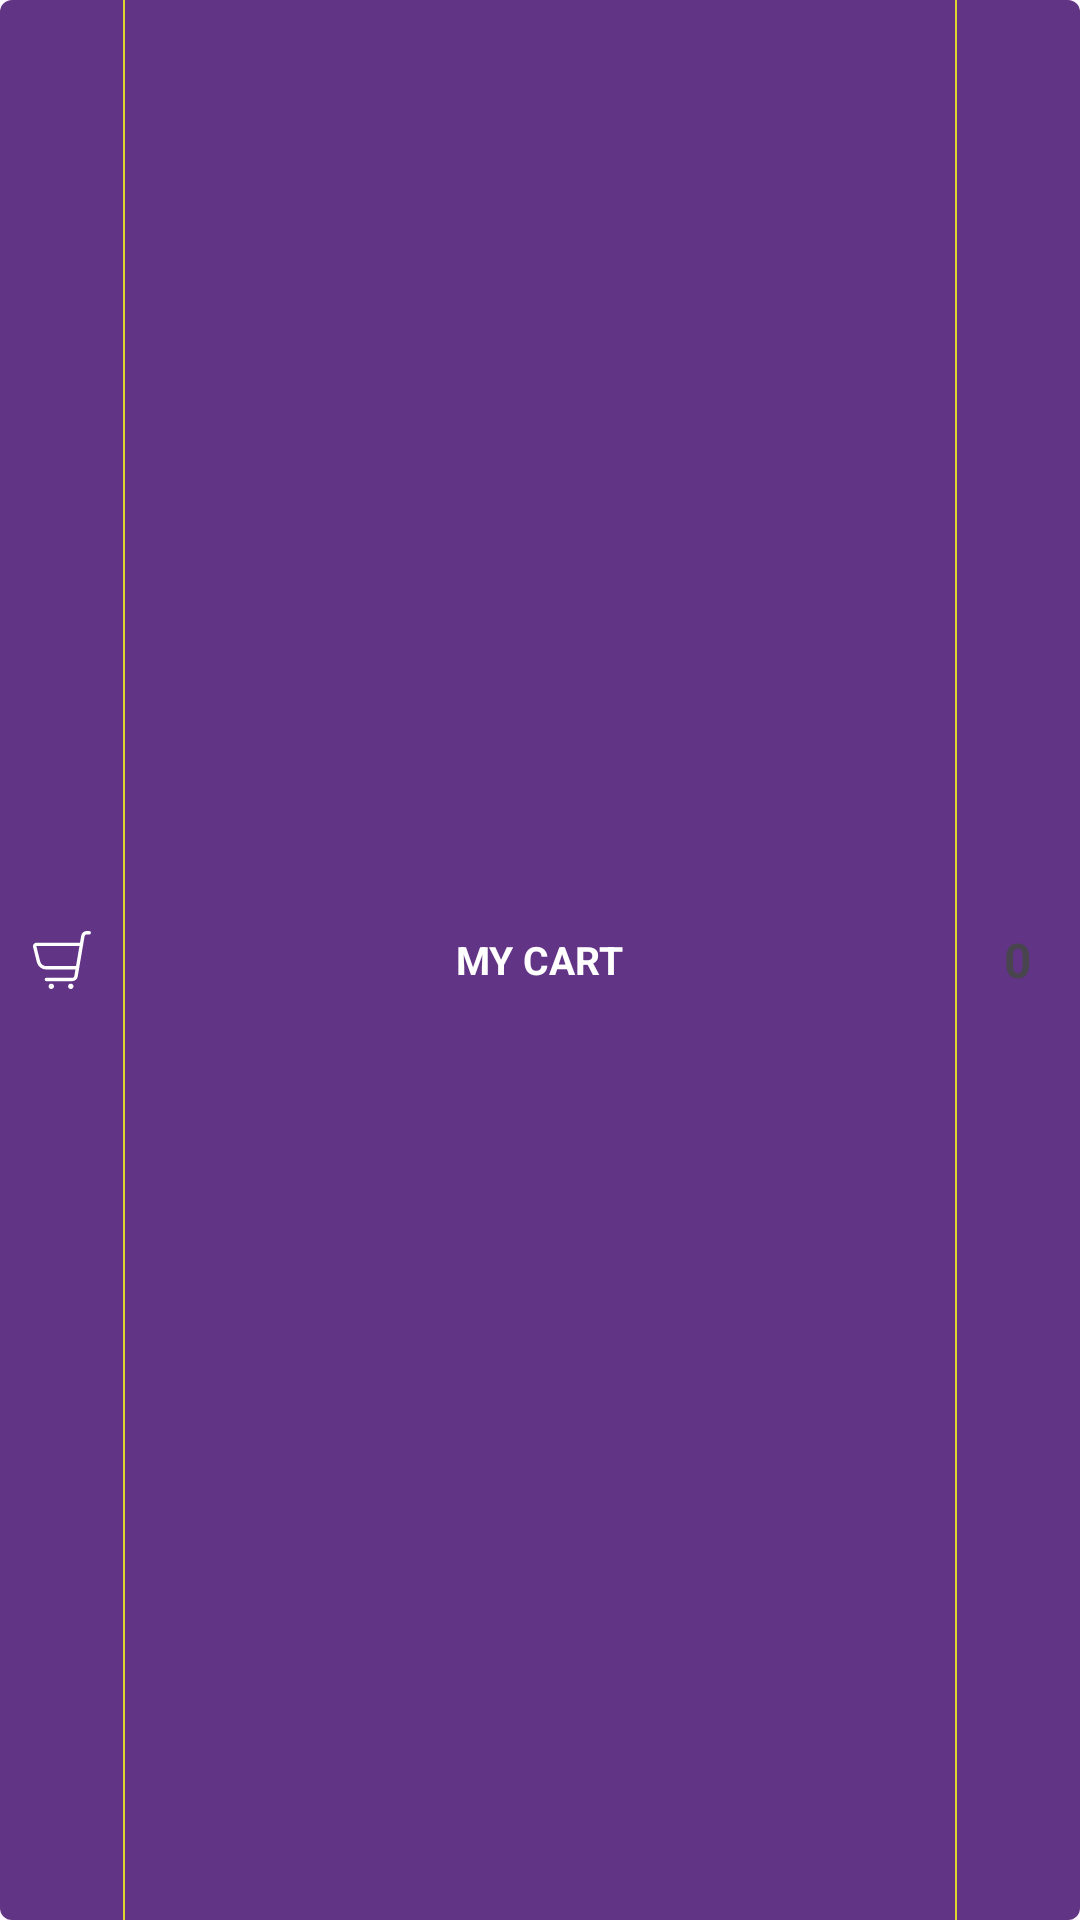

Named icons in this screenshot (1080×1920) and their bounding boxes, bbox=(x1, y1, x2, y2):
cart: bbox=(33, 931, 91, 989)
